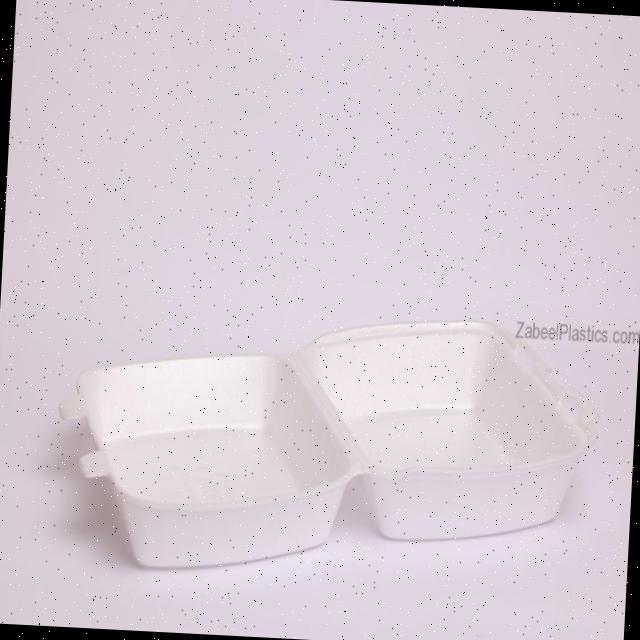styrofoam: (50, 338, 373, 580), (286, 308, 604, 551)
